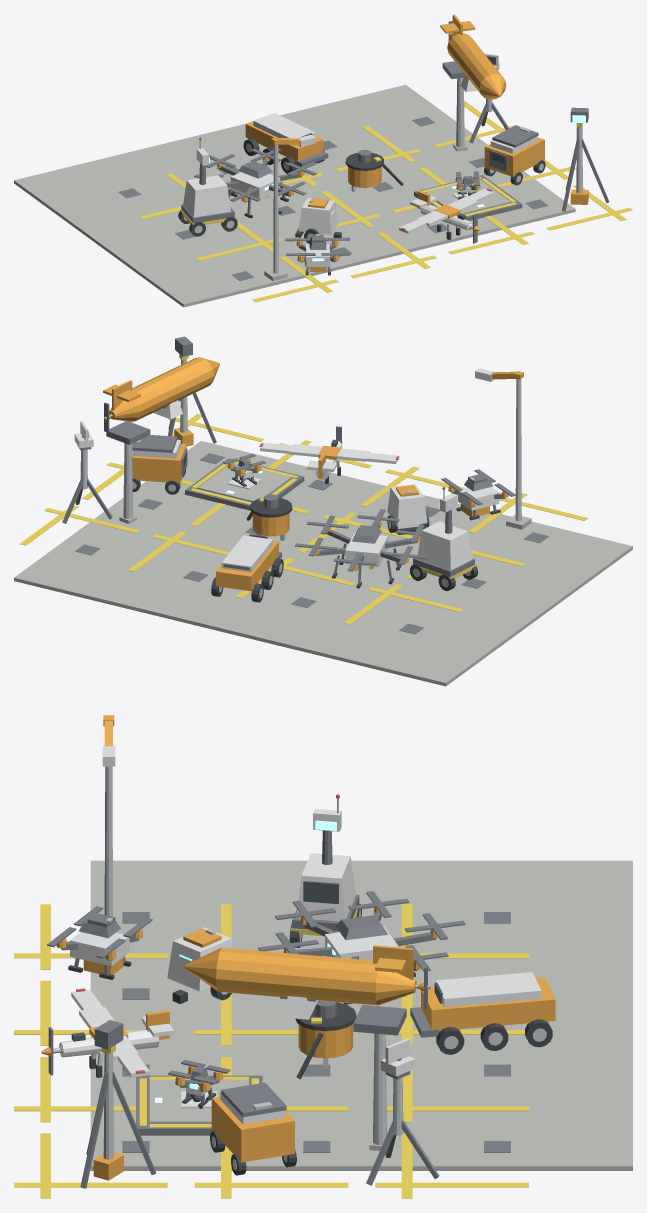
The model's file is drone-field-test-yard.glb.
The picture shows the model from 3 angles, top to bottom: view 1: azimuth 30°, elevation 25°; view 2: azimuth 150°, elevation 25°; view 3: azimuth 270°, elevation 25°; orthographic projection. The views are drawn at different scales.
Visible parts, largest first — view 1: 002-workshop-floor-tile/0, 000-workshop-floor-tile/0, 009-workshop-floor-tile/0, 001-workshop-floor-tile/0, 003-workshop-floor-tile/0, 008-workshop-floor-tile/0, 010-workshop-floor-tile/0, 005-workshop-floor-tile/0, 007-workshop-floor-tile/0, 011-workshop-floor-tile/0, 013-blimp-patrol/3, 006-workshop-floor-tile/0 (+26 smaller); view 2: 000-workshop-floor-tile/0, 003-workshop-floor-tile/0, 009-workshop-floor-tile/0, 002-workshop-floor-tile/0, 001-workshop-floor-tile/0, 006-workshop-floor-tile/0, 010-workshop-floor-tile/0, 008-workshop-floor-tile/0, 004-workshop-floor-tile/0, 013-blimp-patrol/3, 007-workshop-floor-tile/0, 011-workshop-floor-tile/0 (+26 smaller); view 3: 009-workshop-floor-tile/0, 000-workshop-floor-tile/0, 002-workshop-floor-tile/0, 006-workshop-floor-tile/0, 010-workshop-floor-tile/0, 013-blimp-patrol/3, 003-workshop-floor-tile/0, 001-workshop-floor-tile/0, 008-workshop-floor-tile/0, 007-workshop-floor-tile/0, 005-workshop-floor-tile/0, 011-workshop-floor-tile/0 (+36 smaller).
Boxes of the visible parts, <box> form: 002-workshop-floor-tile/0: <box>127,239,281,307</box>; 000-workshop-floor-tile/0: <box>14,156,167,224</box>; 009-workshop-floor-tile/0: <box>308,84,456,149</box>; 001-workshop-floor-tile/0: <box>70,198,224,265</box>; 003-workshop-floor-tile/0: <box>112,132,249,197</box>; 008-workshop-floor-tile/0: <box>336,193,472,259</box>; 010-workshop-floor-tile/0: <box>365,127,498,190</box>; 005-workshop-floor-tile/0: <box>225,221,379,283</box>; 007-workshop-floor-tile/0: <box>269,151,419,211</box>; 011-workshop-floor-tile/0: <box>470,171,575,235</box>; 013-blimp-patrol/3: <box>440,14,506,99</box>; 006-workshop-floor-tile/0: <box>210,108,363,172</box>; 000-workshop-floor-tile/0: <box>338,611,508,686</box>; 003-workshop-floor-tile/0: <box>230,585,399,659</box>; 009-workshop-floor-tile/0: <box>14,532,183,607</box>; 002-workshop-floor-tile/0: <box>473,521,632,594</box>; 001-workshop-floor-tile/0: <box>400,569,570,640</box>; 006-workshop-floor-tile/0: <box>122,558,291,633</box>; 010-workshop-floor-tile/0: <box>77,487,246,558</box>; 008-workshop-floor-tile/0: <box>247,469,390,538</box>; 004-workshop-floor-tile/0: <box>292,544,439,610</box>; 013-blimp-patrol/3: <box>103,357,219,421</box>; 007-workshop-floor-tile/0: <box>184,513,347,584</box>; 011-workshop-floor-tile/0: <box>140,441,306,512</box>; 009-workshop-floor-tile/0: <box>452,1090,632,1170</box>; 000-workshop-floor-tile/0: <box>452,860,632,936</box>; 002-workshop-floor-tile/0: <box>90,860,271,936</box>; 006-workshop-floor-tile/0: <box>452,1013,632,1089</box>; 010-workshop-floor-tile/0: <box>271,1090,452,1170</box>; 013-blimp-patrol/3: <box>184,945,416,1005</box>; 003-workshop-floor-tile/0: <box>452,937,632,1013</box>; 001-workshop-floor-tile/0: <box>271,860,452,936</box>; 008-workshop-floor-tile/0: <box>90,1013,271,1089</box>; 007-workshop-floor-tile/0: <box>271,1013,452,1089</box>; 005-workshop-floor-tile/0: <box>90,937,271,1013</box>; 011-workshop-floor-tile/0: <box>90,1090,271,1170</box>.
Bounding box in the file's own units: 8.85 × 2.74 × 6.85.
